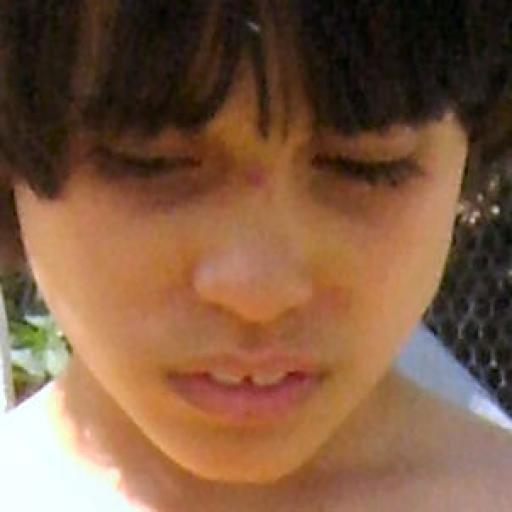Autism: (10, 14, 512, 509)
